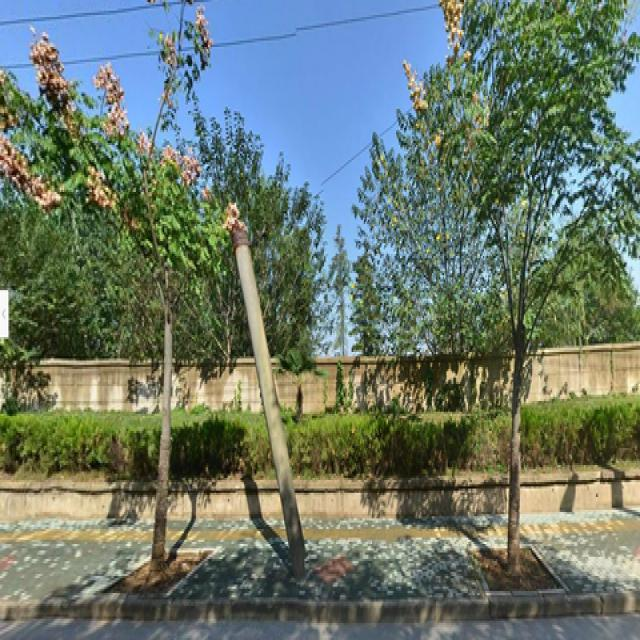koel: (53, 72, 211, 536)
